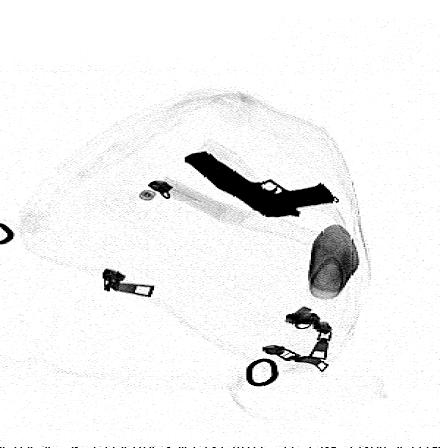Gun: (182, 150, 334, 218)
